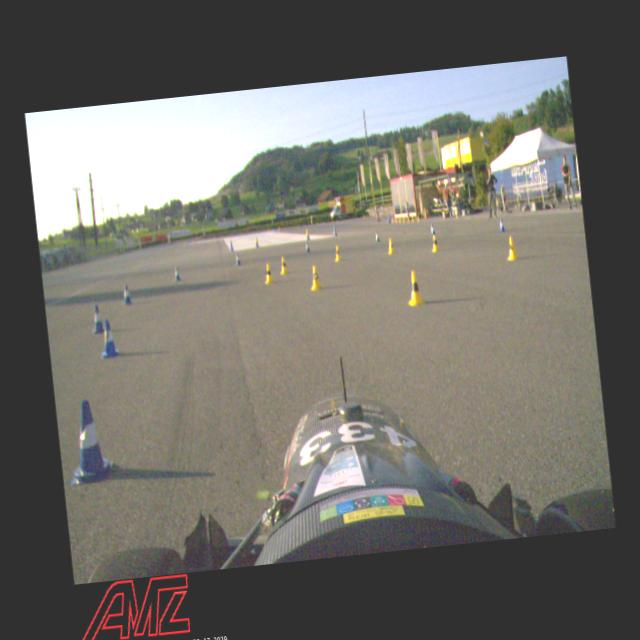blue_cone: (63, 398, 116, 488), (97, 316, 119, 359), (88, 303, 106, 334), (120, 282, 132, 306), (171, 266, 182, 282), (496, 217, 506, 233), (233, 252, 240, 266), (428, 222, 435, 235), (332, 224, 338, 236), (228, 241, 234, 252), (304, 241, 310, 252), (385, 213, 391, 224), (374, 230, 379, 242)
yellow_cone: (404, 268, 424, 306), (308, 263, 324, 290), (504, 235, 518, 261), (262, 262, 274, 284), (278, 254, 289, 274), (386, 237, 396, 255), (430, 232, 439, 252), (333, 245, 342, 262), (416, 215, 421, 222), (394, 216, 398, 224), (402, 215, 406, 223), (411, 214, 415, 222), (398, 216, 402, 223), (391, 217, 394, 224), (406, 216, 409, 223)
